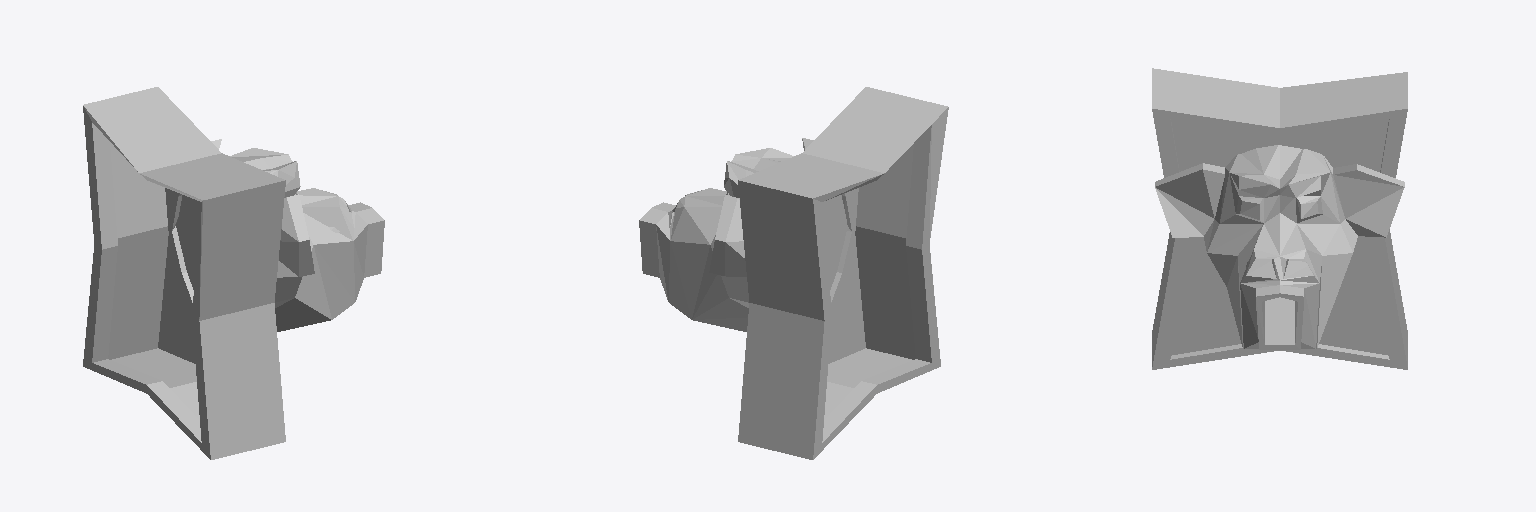
Rendered from DartMouth.obj.
3 renders of one model, left to right at view 1: azimuth 30°, elevation 25°; view 2: azimuth 150°, elevation 25°; view 3: azimuth 270°, elevation 25°, orthographic.
Visible parts, largest first — view 1: Monkey_DartBox:Monkey_DartBox; view 2: Monkey_DartBox:Monkey_DartBox; view 3: Monkey_DartBox:Monkey_DartBox.
Boxes of the visible parts, <box> form: Monkey_DartBox:Monkey_DartBox: <box>83,87,384,459</box>; Monkey_DartBox:Monkey_DartBox: <box>639,87,948,459</box>; Monkey_DartBox:Monkey_DartBox: <box>1152,68,1407,369</box>.
Bounding box in the file's own units: 2.18 × 2.34 × 2.08.